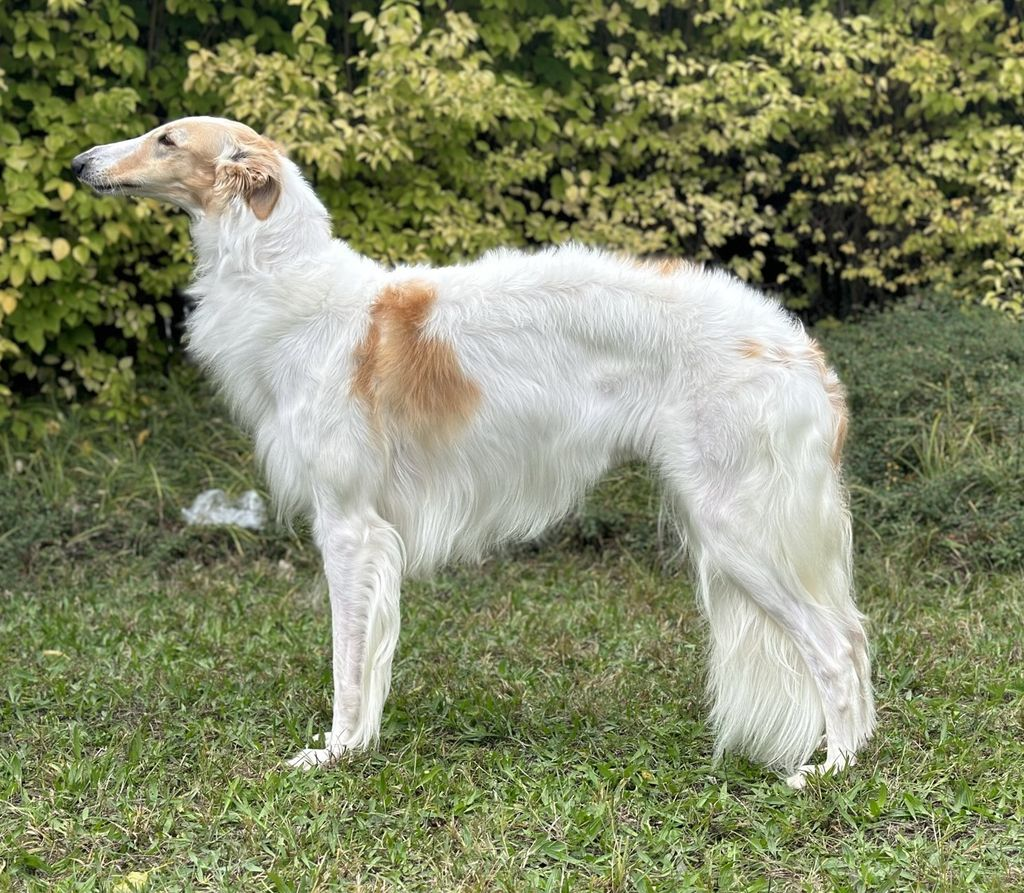borzoi: (71, 113, 902, 784)
